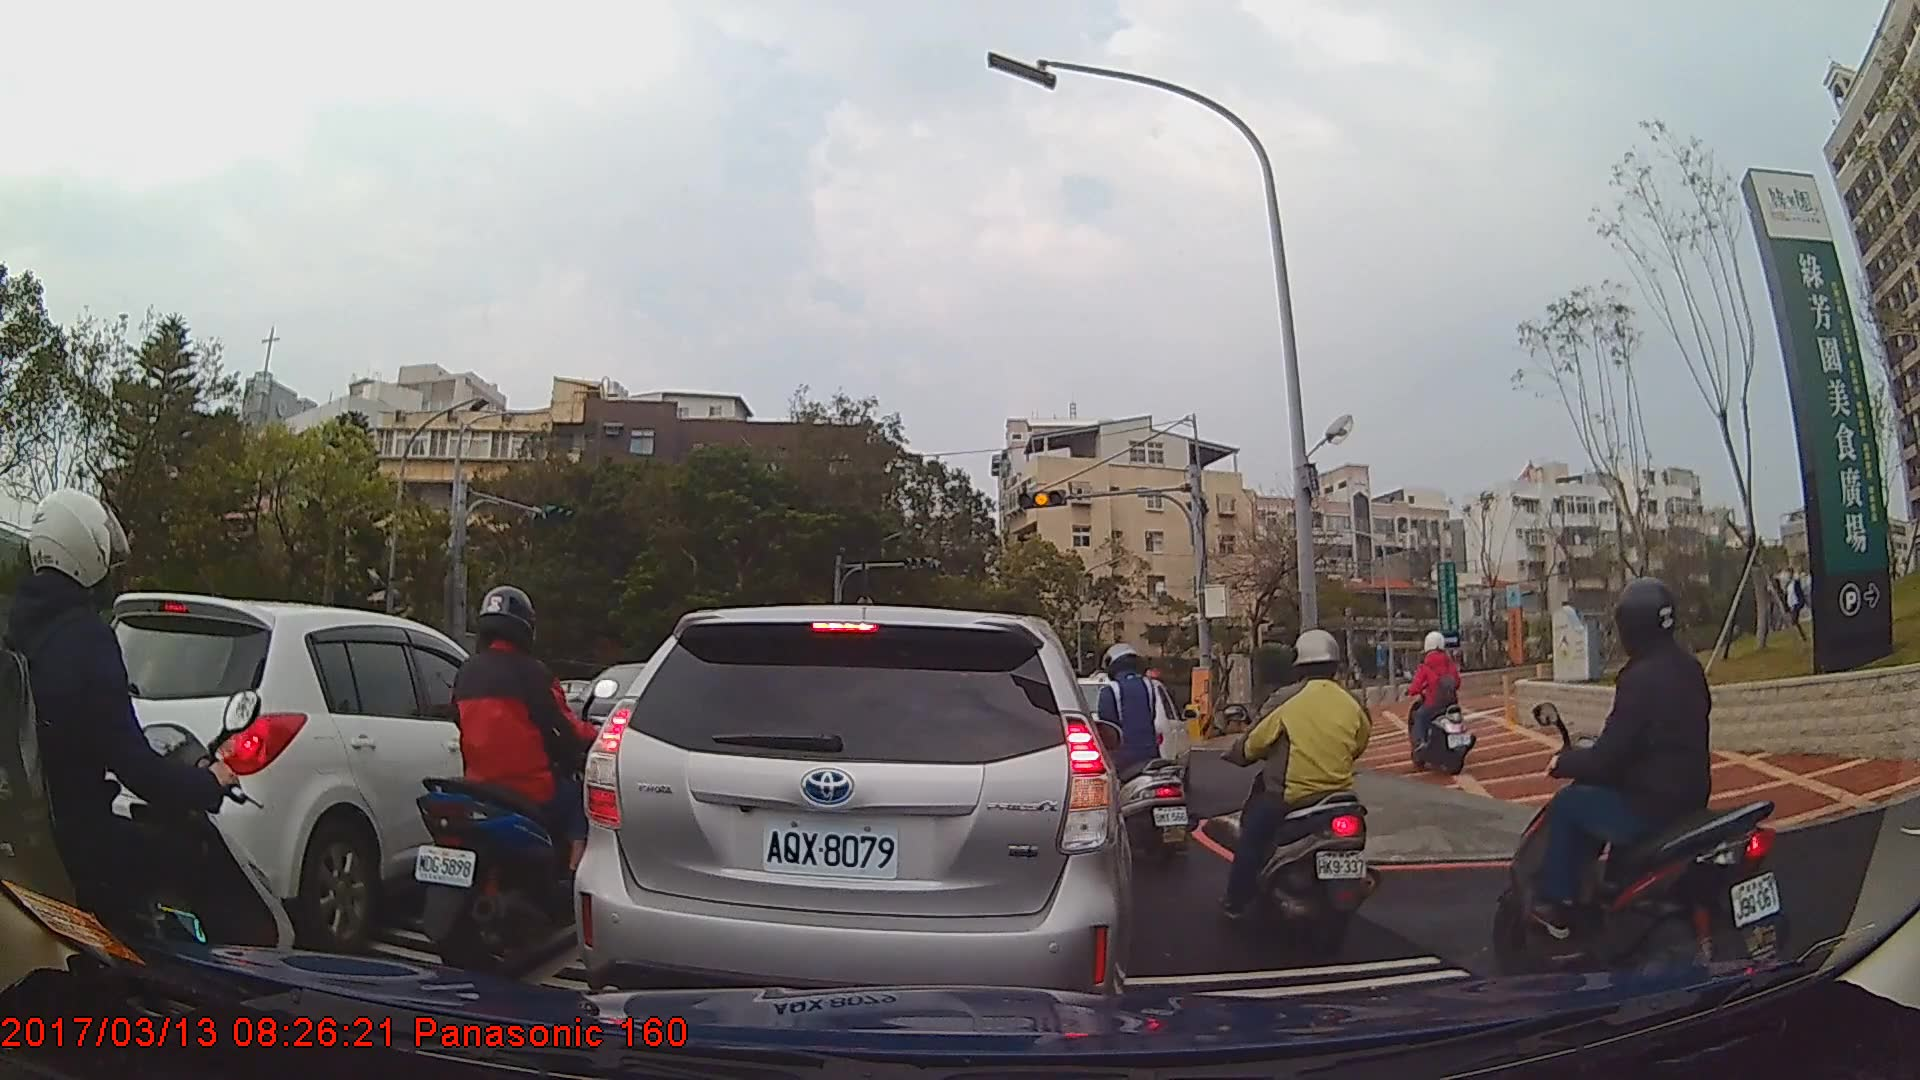pedestrian: (1771, 556, 1813, 629), (1763, 572, 1796, 636)
rider: (1, 482, 299, 1068), (1505, 573, 1796, 1010), (409, 580, 614, 975), (1215, 629, 1384, 937), (1081, 642, 1195, 863), (1401, 633, 1476, 775)
vehicle: (575, 604, 1133, 1020), (44, 591, 581, 955)
